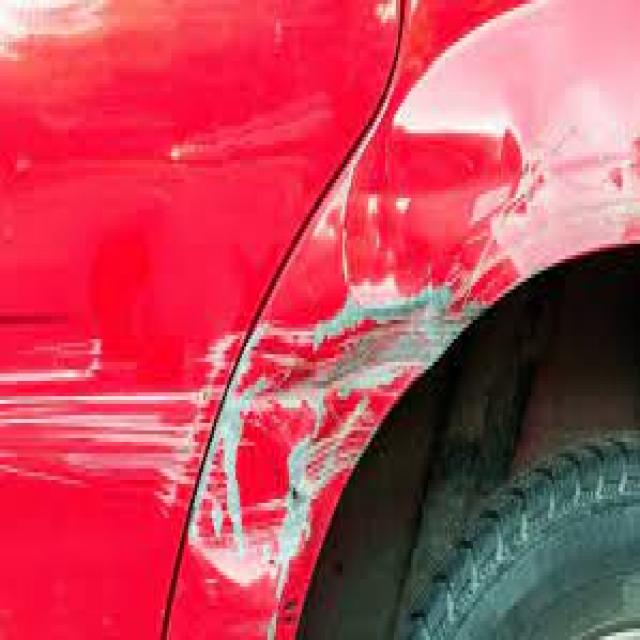minor: (10, 264, 467, 571)
